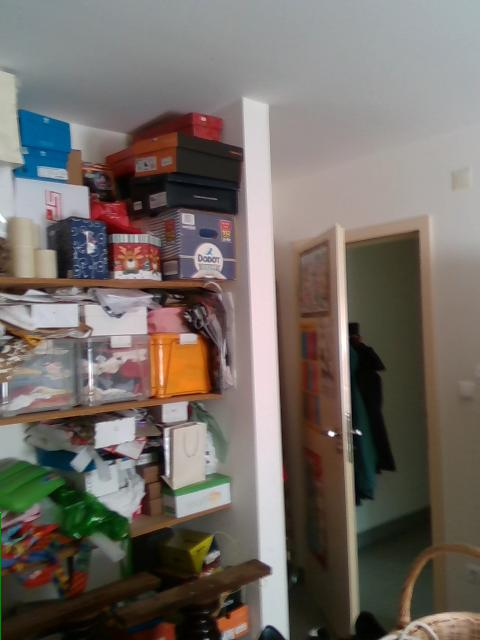semi_door: (287, 211, 445, 638)
